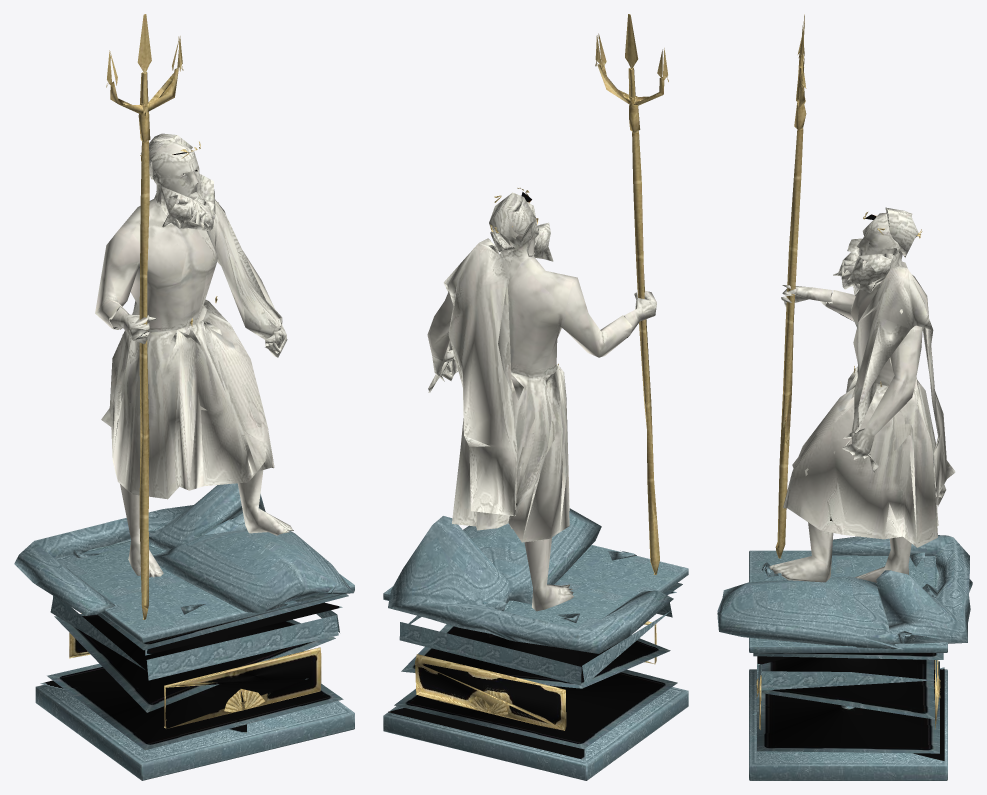
File: guardian-tides-lod2.glb
3 renders of one model, left to right at view 1: azimuth 30°, elevation 25°; view 2: azimuth 150°, elevation 25°; view 3: azimuth 270°, elevation 25°, orthographic. The views are drawn at different scales.
Parts seen in each view (by area): view 1: TIDES__PEDESTAL, TIDES__CLOTH, TIDES__WAVES, TIDES__BODY, TIDES__TRIDENT, TIDES__DETAILS, TIDES__HAIR_BEARD, TIDES__FACE, TIDES__HAND_GRIP; view 2: TIDES__PEDESTAL, TIDES__CLOTH, TIDES__WAVES, TIDES__BODY, TIDES__DETAILS, TIDES__TRIDENT, TIDES__HAIR_BEARD, TIDES__HAND_GRIP; view 3: TIDES__PEDESTAL, TIDES__CLOTH, TIDES__WAVES, TIDES__BODY, TIDES__TRIDENT, TIDES__HAIR_BEARD, TIDES__FACE, TIDES__HAND_GRIP, TIDES__DETAILS.
Part boxes in pixels (x1,y1,x2,y2): TIDES__PEDESTAL: [35, 538, 354, 780]; TIDES__CLOTH: [101, 199, 282, 499]; TIDES__WAVES: [14, 483, 353, 615]; TIDES__BODY: [95, 149, 293, 578]; TIDES__TRIDENT: [106, 14, 183, 619]; TIDES__DETAILS: [69, 141, 321, 728]; TIDES__HAIR_BEARD: [140, 133, 215, 231]; TIDES__FACE: [151, 142, 199, 201]; TIDES__HAND_GRIP: [109, 307, 156, 344]; TIDES__PEDESTAL: [383, 545, 688, 780]; TIDES__CLOTH: [428, 238, 569, 542]; TIDES__WAVES: [388, 508, 673, 653]; TIDES__BODY: [427, 214, 632, 611]; TIDES__DETAILS: [415, 188, 656, 730]; TIDES__TRIDENT: [595, 14, 668, 574]; TIDES__HAIR_BEARD: [489, 192, 553, 261]; TIDES__HAND_GRIP: [624, 290, 656, 337]; TIDES__PEDESTAL: [749, 550, 947, 780]; TIDES__CLOTH: [783, 265, 955, 547]; TIDES__WAVES: [717, 535, 972, 649]; TIDES__BODY: [769, 251, 923, 582]; TIDES__TRIDENT: [775, 14, 806, 558]; TIDES__HAIR_BEARD: [833, 207, 918, 295]; TIDES__FACE: [857, 213, 903, 269]; TIDES__HAND_GRIP: [781, 285, 832, 308]; TIDES__DETAILS: [756, 212, 940, 729].
Size of the model in its own units: 3.37 by 9.9 by 3.34.
3 materials, 3 textured.
